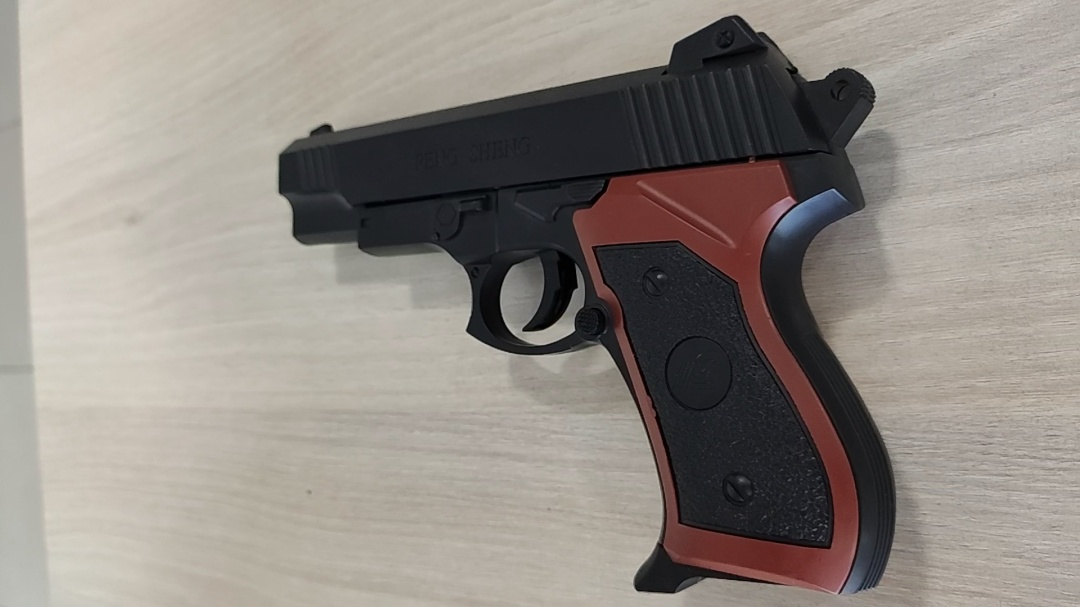gun: (272, 16, 903, 589)
